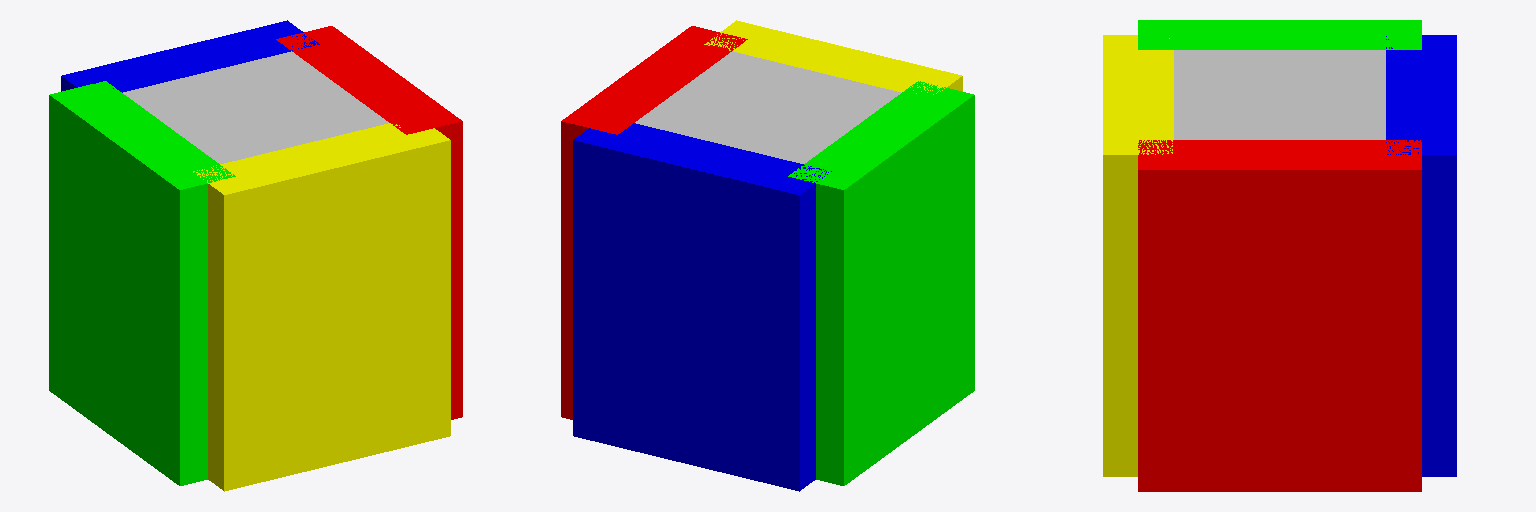
The robot description file, URDF, robot "cube":
<?xml version="1.0"?>
<!--
This is a cube with a side length of 0.15 meters.
The face directions are defined in terms of outward surface normals.
-->
<robot name="cube">
  <link name="box_base">
    <inertial>
      <density value="300.0"/>
    </inertial>
    <visual>
      <origin xyz="0 0 0"/>
      <geometry>
        <box size="0.09 0.09 0.15"/>
      </geometry>
      <material name="gray"/>
    </visual>
    <collision>
      <origin xyz="0 0 0"/>
      <geometry>
        <box size="0.09 0.09 0.15"/>
      </geometry>
    </collision>
  </link>
  <!-- back face, pointing in the +x direction -->
  <link name="box_face_xp">
    <inertial>
      <density value="300.0"/>
    </inertial>
    <visual>
      <origin xyz="0.06 0 0"/>
      <geometry>
        <box size="0.03 0.12 0.15"/>
      </geometry>
      <material name="red"/>
    </visual>
    <collision>
      <origin xyz="0.06 0 0"/>
      <geometry>
        <box size="0.03 0.12 0.15"/>
      </geometry>
    </collision>
  </link>
  <joint name='joint_xp' type='fixed'>
    <parent link='box_base'/>
    <child link='box_face_xp'/>
  </joint>
  <!-- back face, pointing in the -x direction -->
  <link name="box_face_xn">
    <inertial>
      <density value="300.0"/>
    </inertial>
    <visual>
      <origin xyz="-0.06 0 0"/>
      <geometry>
        <box size="0.03 0.12 0.15"/>
      </geometry>
      <material name="green"/>
    </visual>
    <collision>
      <origin xyz="-0.06 0 0"/>
      <geometry>
        <box size="0.03 0.12 0.15"/>
      </geometry>
    </collision>
  </link>
  <joint name='joint_xn' type='fixed'>
    <parent link='box_base'/>
    <child link='box_face_xn'/>
  </joint>
  <!-- left face, pointing in the +y direction -->
  <link name="box_face_yp">
    <inertial>
      <density value="300.0"/>
    </inertial>
    <visual>
      <origin xyz="0 0.06 0"/>
      <geometry>
        <box size="0.12 0.03 0.15"/>
      </geometry>
      <material name="blue"/>
    </visual>
    <collision>
      <origin xyz="0 0.06 0"/>
      <geometry>
        <box size="0.12 0.03 0.15"/>
      </geometry>
    </collision>
  </link>
  <joint name='joint_yp' type='fixed'>
    <parent link='box_base'/>
    <child link='box_face_yp'/>
  </joint>
  <!-- right face, pointing in the -y direction -->
  <link name="box_face_yn">
    <inertial>
      <density value="300.0"/>
    </inertial>
    <visual>
      <origin xyz="0 -0.06 0"/>
      <geometry>
        <box size="0.12 0.03 0.15"/>
      </geometry>
      <material name="yellow"/>
    </visual>
    <collision>
      <origin xyz="0 -0.06 0"/>
      <geometry>
        <box size="0.12 0.03 0.15"/>
      </geometry>
    </collision>
  </link>
  <joint name='joint_yn' type='fixed'>
    <parent link='box_base'/>
    <child link='box_face_yn'/>
  </joint>

  <!-- define the colors for visual geoms -->
  <material name="red">
    <color rgba="1.0 0.0 0.0 0.9"/>
  </material>
  <material name="green">
    <color rgba="0.0 1.0 0.0 0.9"/>
  </material>
  <material name="blue">
    <color rgba="0.0 0.0 1.0 0.9"/>
  </material>
  <material name="yellow">
    <color rgba="1.0 1.0 0.0 0.9"/>
  </material>
  <material name="gray">
    <color rgba="0.8 0.8 0.8 0.5"/>
  </material>
</robot>

--- What the picture shows (computed from the rendered views, not written in the file) ---
The picture shows the robot from 3 angles, left to right: view 1: azimuth 30°, elevation 25°; view 2: azimuth 150°, elevation 25°; view 3: azimuth 270°, elevation 25°; orthographic projection.
Model cube with 5 links and 4 joints (4 fixed), rooted at box_base, posed every joint at zero.
Links seen in each view (by area): view 1: box_face_yn, box_face_xn, box_base, box_face_xp, box_face_yp; view 2: box_face_yp, box_face_xn, box_base, box_face_xp, box_face_yn; view 3: box_face_xp, box_base, box_face_yn, box_face_yp, box_face_xn.
Boxes of the visible links, left/top/right/bottom form: box_face_yn: left=193, top=123, right=450, bottom=491; box_face_xn: left=49, top=81, right=235, bottom=485; box_base: left=123, top=51, right=388, bottom=163; box_face_xp: left=276, top=26, right=462, bottom=419; box_face_yp: left=61, top=20, right=319, bottom=92; box_face_yp: left=573, top=123, right=831, bottom=491; box_face_xn: left=788, top=81, right=974, bottom=485; box_base: left=635, top=51, right=900, bottom=163; box_face_xp: left=561, top=26, right=747, bottom=419; box_face_yn: left=704, top=20, right=962, bottom=94; box_face_xp: left=1138, top=140, right=1421, bottom=491; box_base: left=1174, top=50, right=1385, bottom=139; box_face_yn: left=1103, top=35, right=1173, bottom=476; box_face_yp: left=1386, top=35, right=1456, bottom=476; box_face_xn: left=1138, top=20, right=1421, bottom=49.
Bounding box of the posed robot: 0.15 × 0.15 × 0.15 m (x, y, z).
Geometry: primitives only (box / cylinder / sphere), no mesh files.
